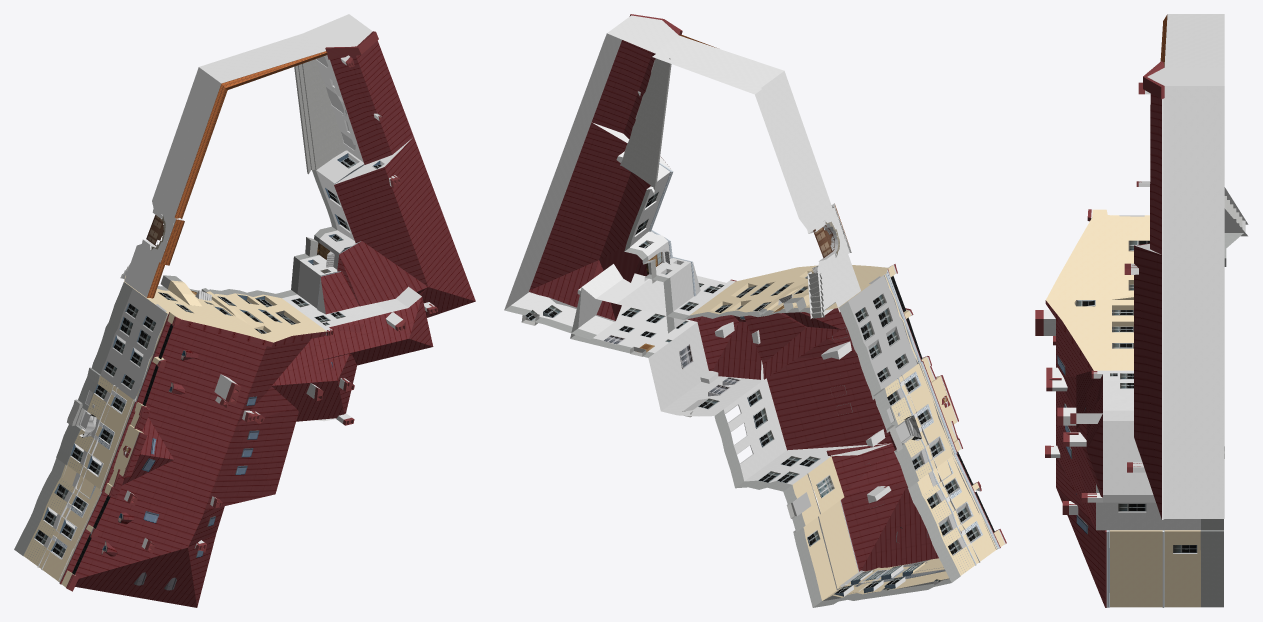
File: Vene_22-origo.obj
The picture shows the model from 3 angles, left to right: view 1: azimuth 30°, elevation 25°; view 2: azimuth 150°, elevation 25°; view 3: azimuth 270°, elevation 25°; orthographic projection. The views are drawn at different scales.
Visible parts, largest first — view 1: vene22; view 2: vene22; view 3: vene22.
Part boxes in pixels (bbox=[...]): vene22: bbox=[14, 14, 475, 607]; vene22: bbox=[504, 14, 1006, 607]; vene22: bbox=[1035, 14, 1248, 607].
Size of the model in its own units: 56.12 by 62.5 by 18.72.
